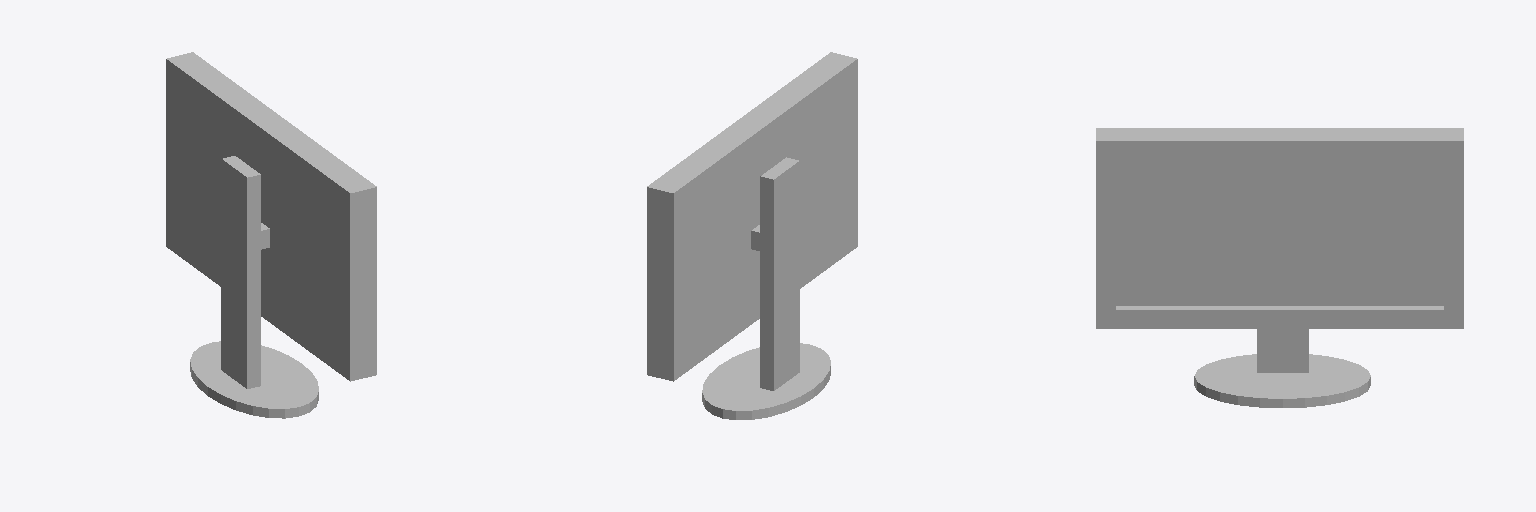
File: DesktopMonitor 1.obj
The picture shows the model from 3 angles: view 1: azimuth 30°, elevation 25°; view 2: azimuth 150°, elevation 25°; view 3: azimuth 270°, elevation 25°; orthographic projection.
Visible parts, largest first — view 1: block_default_105, block_default_103, block_default_106, cylinder_full_50, block_default_109, block_default_108; view 2: block_default_105, block_default_103, block_default_109, cylinder_full_50, block_default_108, block_default_107, block_default_106; view 3: block_default_105, block_default_109, block_default_108, cylinder_full_50, block_default_106, block_default_107, block_default_103.
Part boxes in pixels (x1,y1,x2,y2): block_default_105: (166,58,364,379); block_default_103: (221,156,260,388); block_default_106: (340,179,376,381); cylinder_full_50: (190,341,318,418); block_default_109: (166,57,365,209); block_default_108: (166,228,346,375); block_default_105: (656,61,853,379); block_default_103: (760,157,799,390); block_default_109: (647,54,854,211); cylinder_full_50: (702,343,830,419); block_default_108: (647,231,854,381); block_default_107: (647,180,683,362); block_default_106: (821,52,857,248); block_default_105: (1101,128,1463,305); block_default_109: (1101,129,1463,159); block_default_108: (1101,306,1463,328); cylinder_full_50: (1194,354,1370,407); block_default_106: (1096,128,1115,328); block_default_107: (1444,128,1463,309); block_default_103: (1257,329,1308,372).
Size of the model in its own units: 2.1 by 5.5 by 7.1.